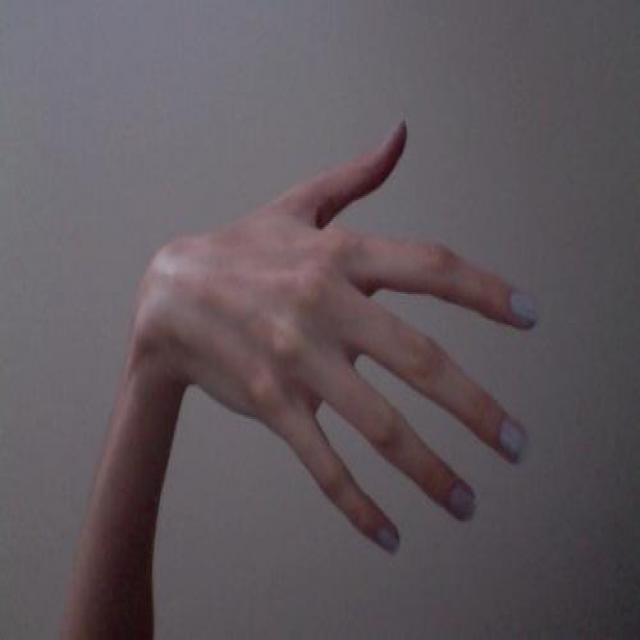hand: (135, 114, 538, 552)
